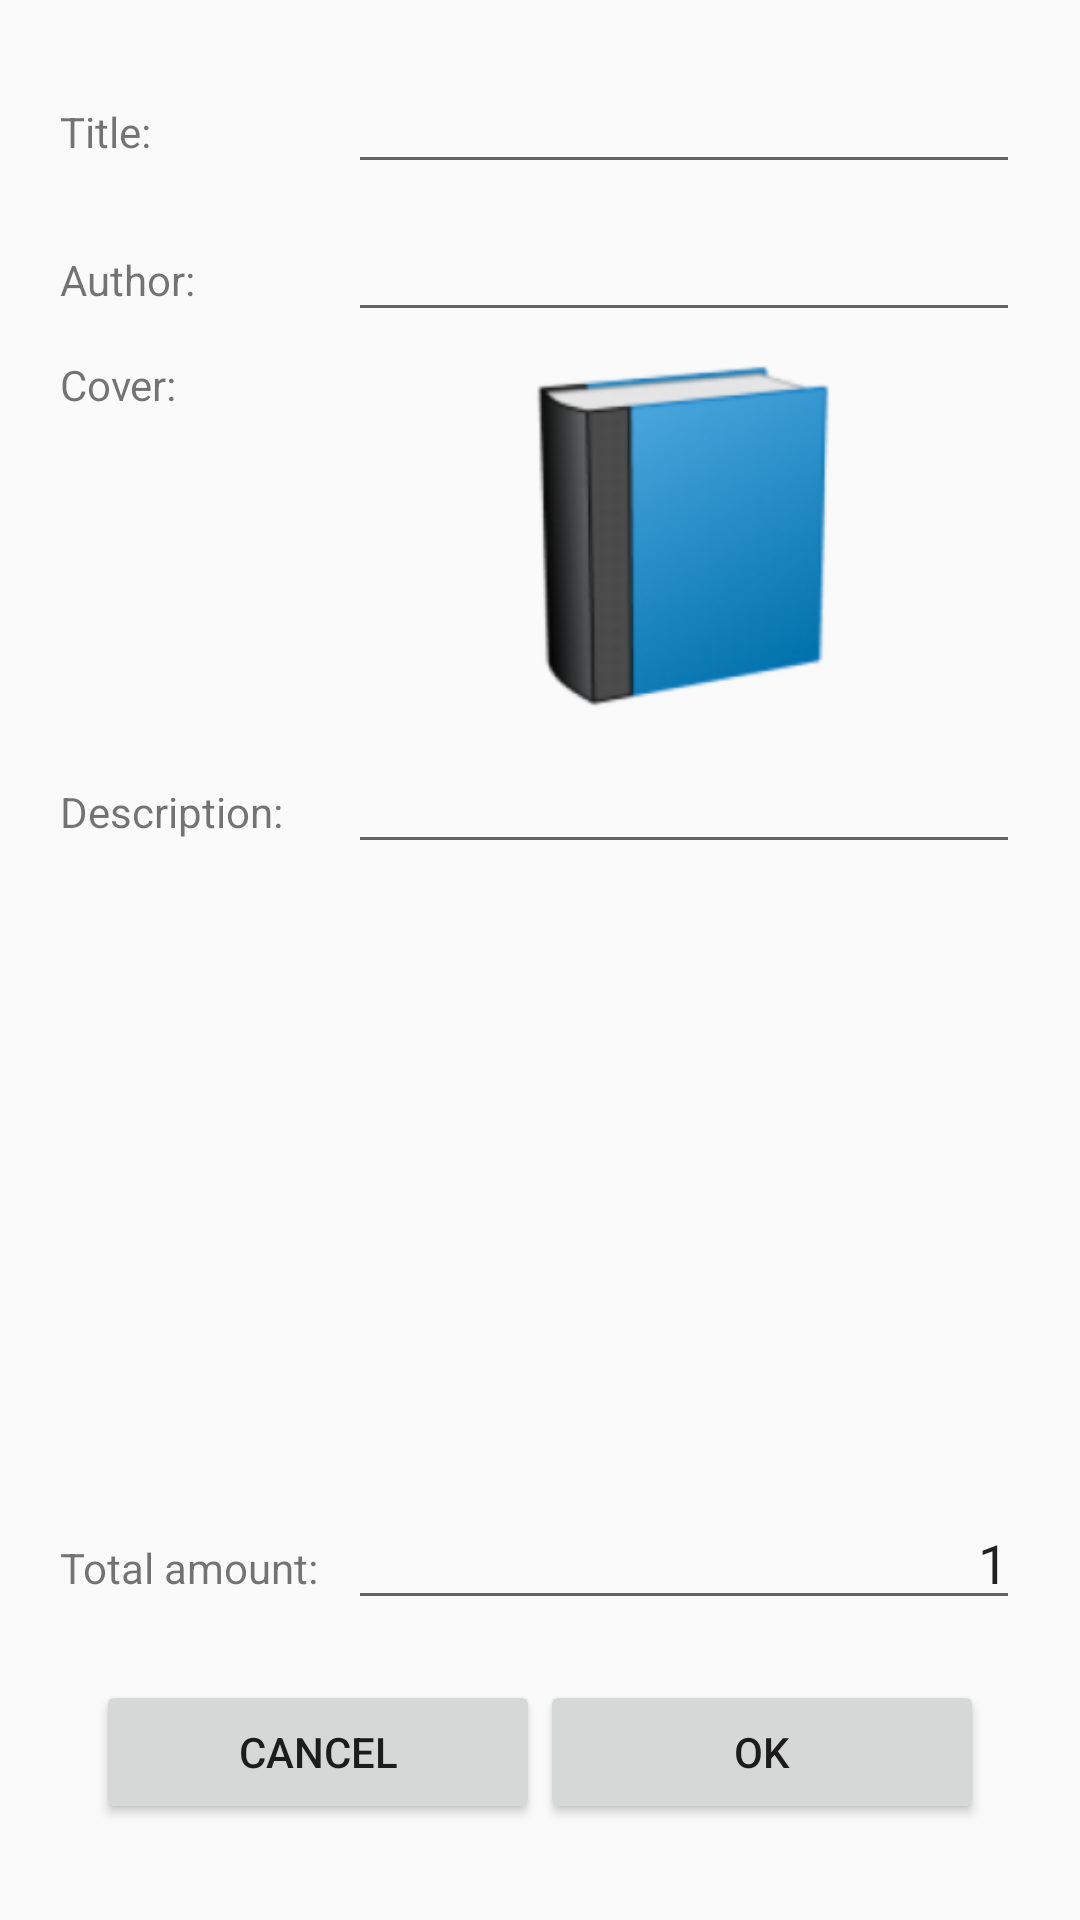

Icon click points for this 1080 x 1920 phone screenshot, format point (x, y):
book: point (683, 535)
